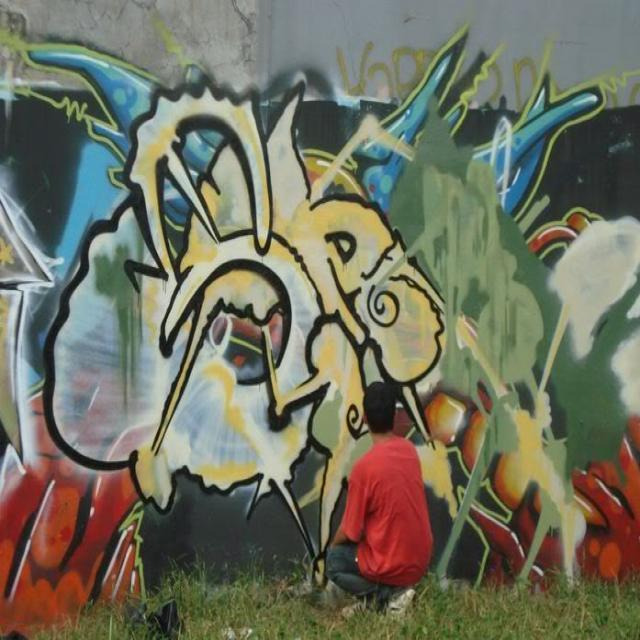-: (0, 29, 640, 630), (44, 81, 444, 584)
